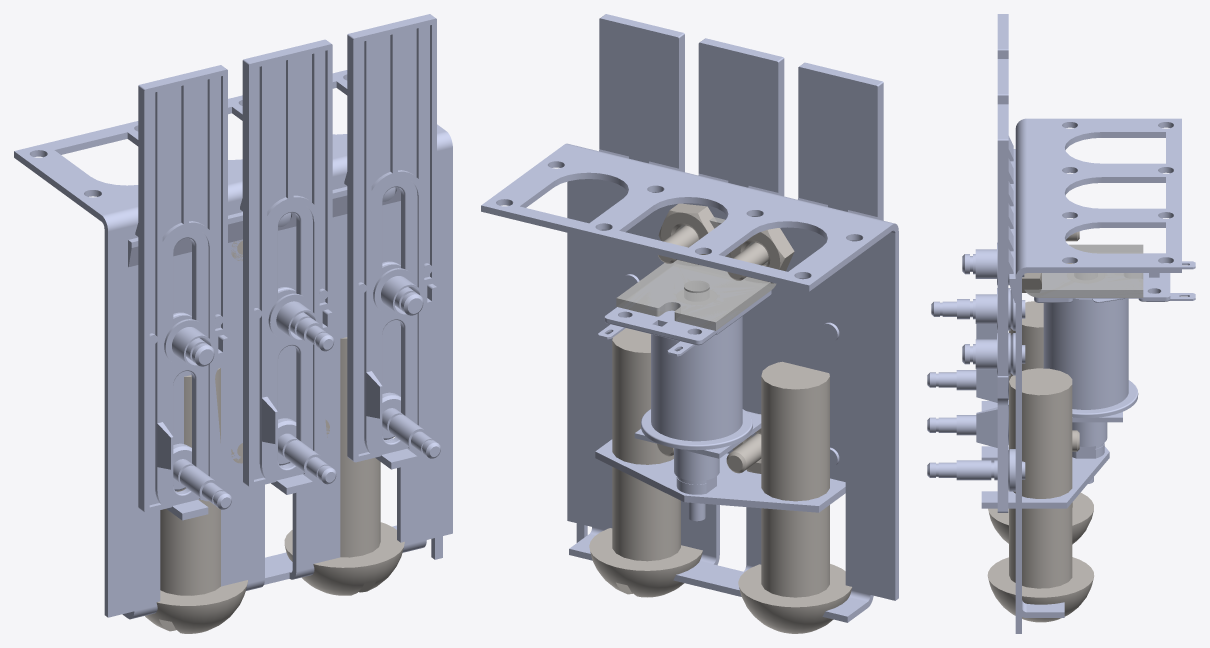
The model's file is Drop Target Bank, 3 Targets, Sys11.fbx.
The picture shows the model from 3 angles, left to right: view 1: azimuth 30°, elevation 25°; view 2: azimuth 150°, elevation 25°; view 3: azimuth 270°, elevation 25°; orthographic projection. The views are drawn at different scales.
Parts seen in each view (by area): view 1: Target 03-8036 (×3), Bracket 3 Bank Mounting B-11224, round head screw_ai (×2), Turning C (×3), Comp Spring 10-392 (×3), washer (×3), Step Strip, Rest Plate 01-8408, Turning A (×2), Turning B; view 2: Bracket 3 Bank Mounting B-11224, Target 03-8036 (×3), round head screw_ai (×2), Coil AE-26-1200, Coil Stop sys11 Droptarget, Rest Plate 01-8408, machine screw nut hex_ai (×2), flush stud_pmi (×2), Coil Sleeve 03-7066-4, Plunger 02-3972-1, Coil MTG Bkt 01-8413; view 3: Bracket 3 Bank Mounting B-11224, round head screw_ai (×2), Coil AE-26-1200, Target 03-8036 (×3), Turning C (×3), Coil Stop sys11 Droptarget, Rest Plate 01-8408, Comp Spring 10-392 (×3), Turning B, Coil Sleeve 03-7066-4, Turning A, Step Strip (+1 smaller).
Part boxes in pixels (box(x1,y1,x2,y2)): Target 03-8036 (×3): box(135, 14, 436, 513); Bracket 3 Bank Mounting B-11224: box(14, 70, 452, 619); round head screw_ai (×2): box(145, 337, 404, 633); Turning C (×3): box(173, 392, 440, 509); Comp Spring 10-392 (×3): box(172, 276, 422, 366); washer (×3): box(164, 268, 416, 364); Step Strip: box(128, 186, 400, 267); Rest Plate 01-8408: box(166, 438, 417, 520); Turning A (×2): box(173, 261, 423, 366); Turning B: box(278, 287, 334, 351); Bracket 3 Bank Mounting B-11224: box(481, 143, 898, 622); Target 03-8036 (×3): box(599, 14, 883, 220); round head screw_ai (×2): box(589, 328, 852, 633); Coil AE-26-1200: box(598, 267, 771, 450); Coil Stop sys11 Droptarget: box(616, 217, 776, 330); Rest Plate 01-8408: box(595, 439, 845, 512); machine screw nut hex_ai (×2): box(658, 203, 794, 283); flush stud_pmi (×2): box(726, 242, 768, 473); Coil Sleeve 03-7066-4: box(669, 287, 723, 481); Plunger 02-3972-1: box(676, 476, 716, 521); Coil MTG Bkt 01-8413: box(634, 411, 761, 458); Bracket 3 Bank Mounting B-11224: box(1015, 118, 1181, 633); round head screw_ai (×2): box(987, 301, 1094, 622); Coil AE-26-1200: box(1034, 253, 1195, 418); Target 03-8036 (×3): box(976, 14, 1013, 512); Turning C (×3): box(927, 370, 1025, 491); Coil Stop sys11 Droptarget: box(1024, 244, 1143, 297); Rest Plate 01-8408: box(981, 401, 1109, 508); Comp Spring 10-392 (×3): box(975, 249, 996, 369); Turning B: box(931, 290, 1025, 330); Coil Sleeve 03-7066-4: box(1060, 273, 1110, 446); Turning A: box(962, 333, 1025, 375); Step Strip: box(1009, 149, 1015, 302).
Size of the model in its own units: 10.48 by 16.63 by 7.99.
